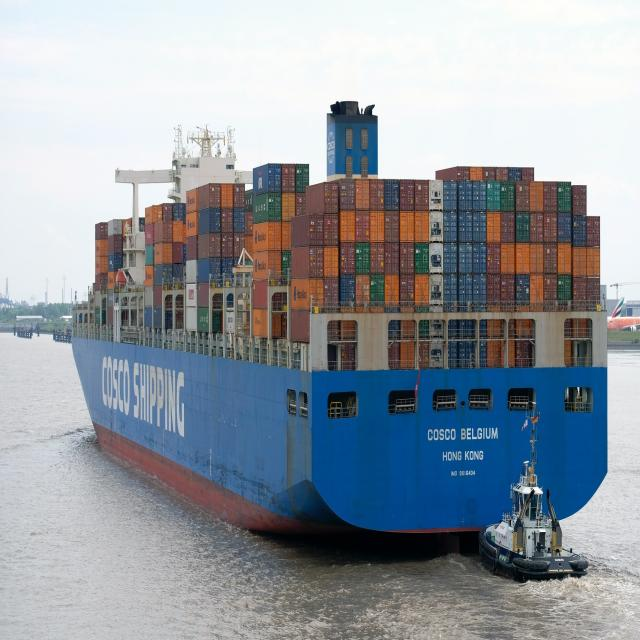boat: (61, 70, 624, 598)
